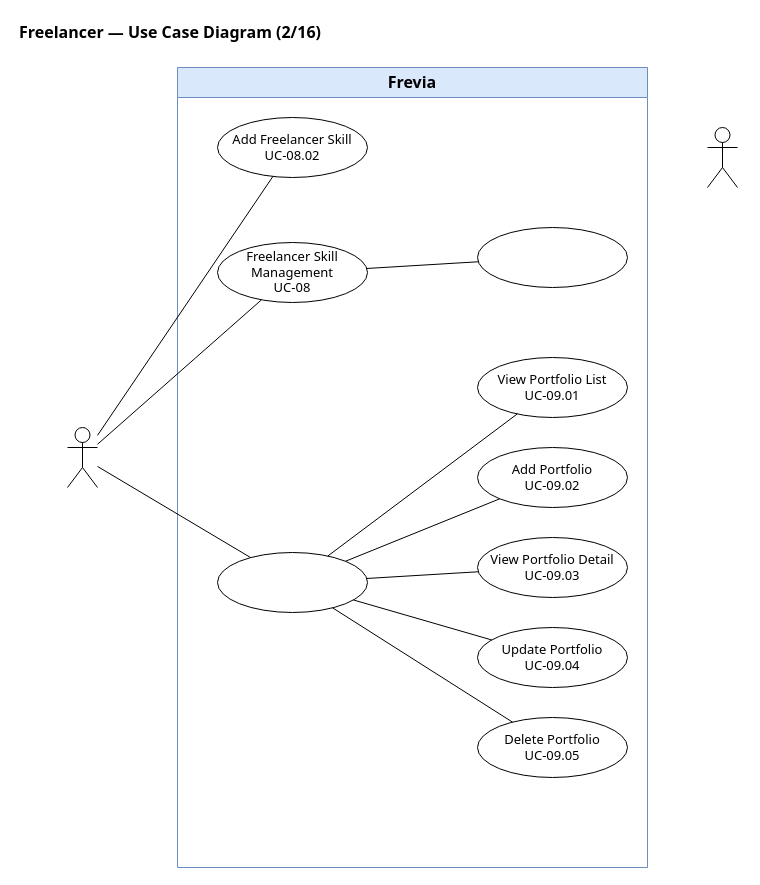
This 760x885 diagram has some shape labels left out. The centre of each missing label's shape, as x and y in pixels:
"Delete Freelancer Skill UC-08.03" goes at (552,257).
"Freelancer" goes at (82,457).
"Portfolio Management UC-09" goes at (292,582).
"Stripe" goes at (722,157).
